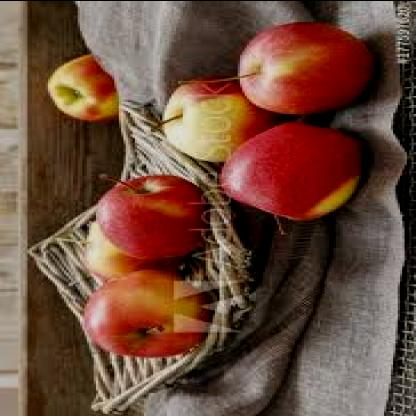apple: (207, 122, 364, 212), (224, 20, 375, 110), (82, 173, 206, 261), (84, 270, 212, 352), (153, 77, 265, 160), (75, 212, 190, 284), (46, 56, 135, 121)
